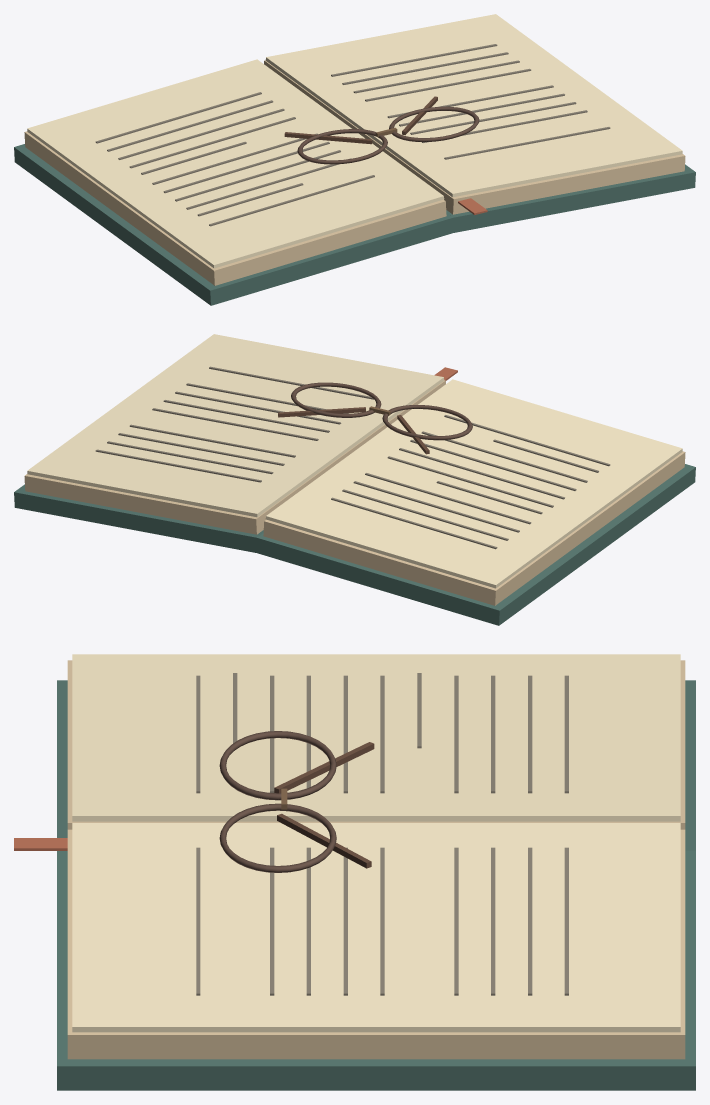
Rendered from evening-paperback-v1.glb.
The picture shows the model from 3 angles, top to bottom: view 1: azimuth 30°, elevation 25°; view 2: azimuth 150°, elevation 25°; view 3: azimuth 270°, elevation 25°; orthographic projection. The views are drawn at different scales.
Parts seen in each view (by area): view 1: Open-page (×2), Cloth-cover (×2), Leaves (×2), Type-lines (×16), Bronze-rim (×2), Folded-temple; view 2: Open-page (×2), Cloth-cover (×2), Leaves (×2), Type-lines (×17), Bronze-rim (×2); view 3: Open-page (×2), Cloth-cover (×2), Leaves (×2), Type-lines (×9), Bronze-rim (×2), Folded-temple (×2), Ribbon.
Boxes of the visible parts, x1,y1,x2,y2 form: Open-page (×2): (27, 14, 682, 268); Cloth-cover (×2): (14, 144, 695, 305); Leaves (×2): (24, 60, 685, 285); Type-lines (×16): (95, 44, 610, 226); Bronze-rim (×2): (297, 106, 479, 164); Folded-temple: (284, 132, 372, 144); Open-page (×2): (27, 334, 682, 588); Cloth-cover (×2): (14, 464, 695, 625); Leaves (×2): (24, 380, 685, 605); Type-lines (×17): (95, 366, 610, 549); Bronze-rim (×2): (291, 382, 472, 440); Open-page (×2): (72, 654, 680, 1032); Cloth-cover (×2): (57, 680, 695, 1090); Leaves (×2): (67, 660, 685, 1059); Type-lines (×9): (196, 847, 568, 995); Bronze-rim (×2): (219, 731, 336, 872); Folded-temple (×2): (274, 742, 374, 868); Ribbon: (14, 838, 67, 850).
Size of the model in its own units: 0.2973 by 0.0375 by 0.222.
